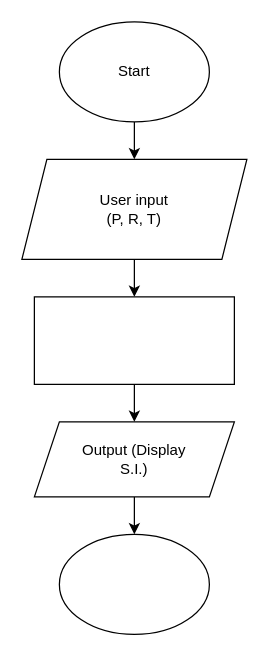
Some shapes in this 269 by 656 pixel diagram are drawn without their labels. Here are the shapes that lost their labels. From the top down, the box of each, then its label:
(33, 296, 234, 384): Process (A=P(1+(R/100)T)
(58, 533, 209, 634): Text
